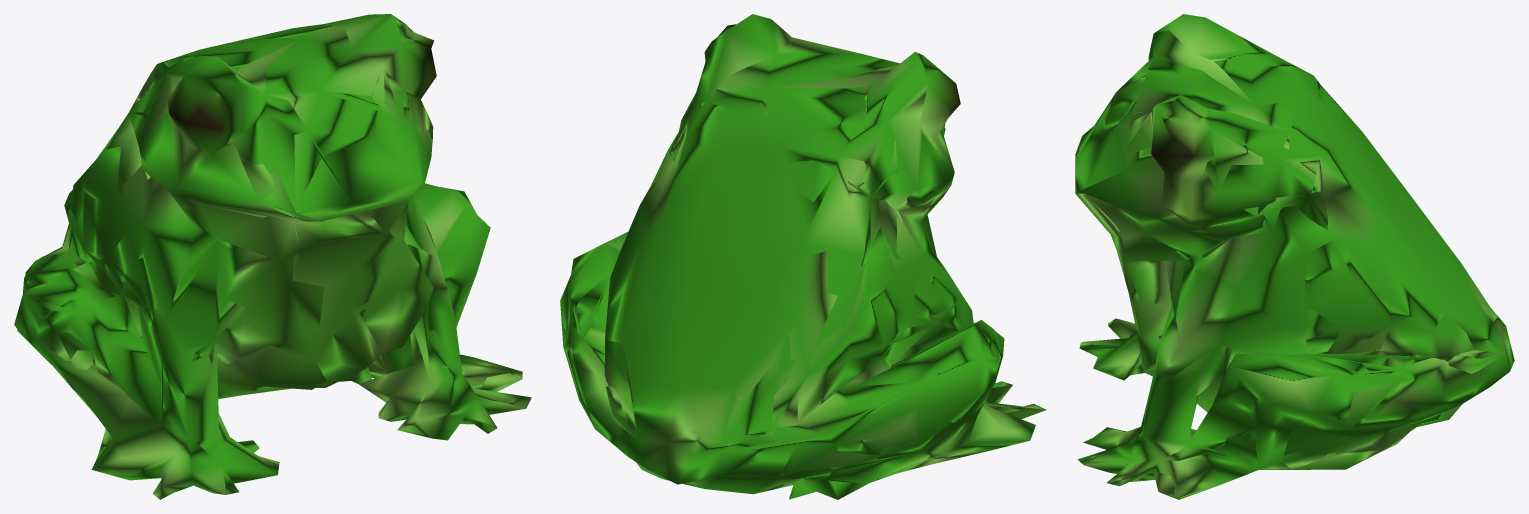
The model's file is gen3d-frog-lod0.glb.
3 renders of one model, left to right at view 1: azimuth 30°, elevation 25°; view 2: azimuth 150°, elevation 25°; view 3: azimuth 270°, elevation 25°, orthographic. The views are drawn at different scales.
Visible parts, largest first — view 1: part_0; view 2: part_0; view 3: part_0.
Part boxes in pixels (<box>): part_0: <box>14,14,531,499</box>; part_0: <box>560,14,1046,499</box>; part_0: <box>1075,14,1514,499</box>.
Bounding box in the file's own units: 1.15 × 0.9879 × 1.07.
